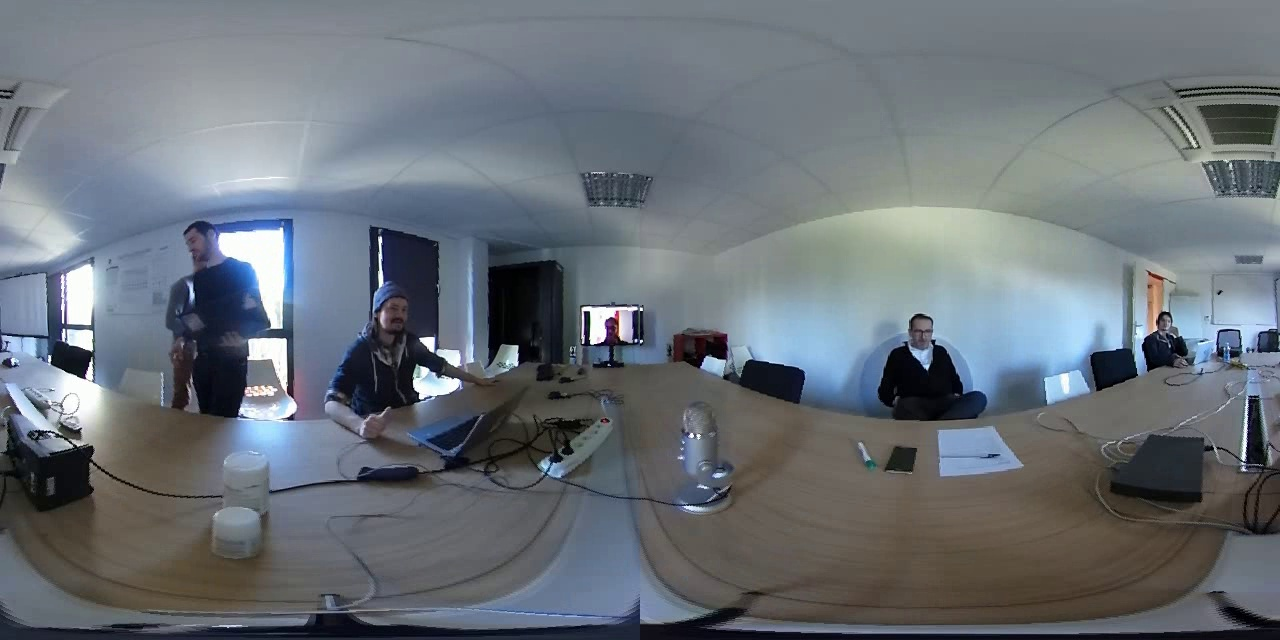person: (332, 271, 452, 401), (873, 310, 991, 434), (182, 222, 258, 394), (1137, 298, 1191, 370), (582, 306, 643, 343)
